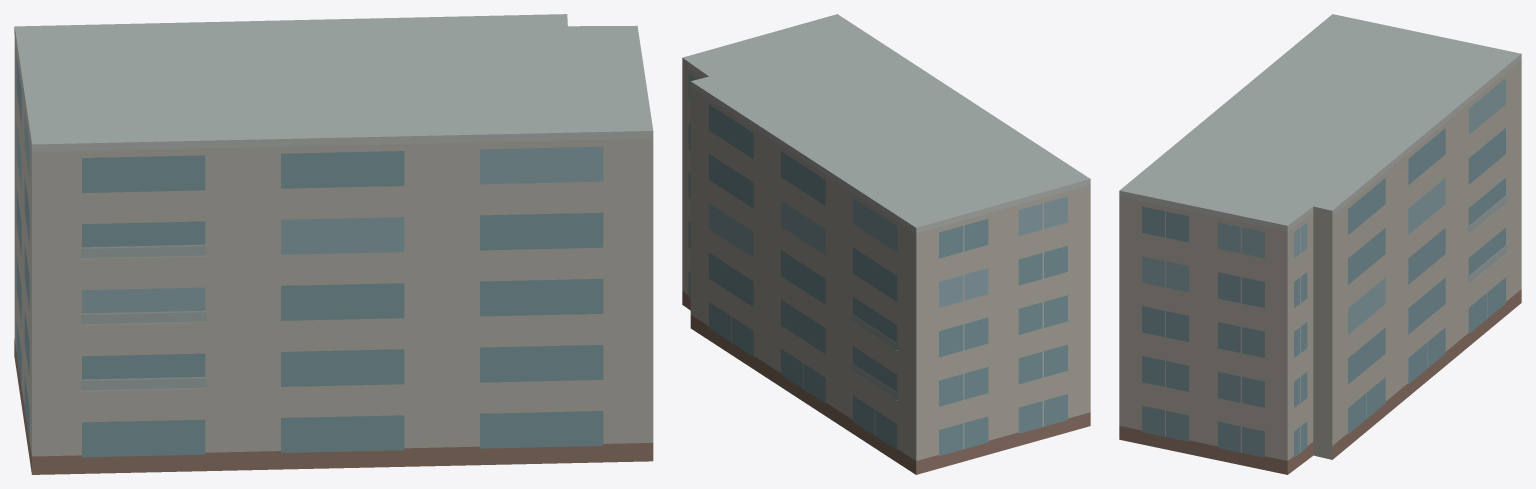
File: survey-upis-32893433.glb
The picture shows the model from 3 angles, left to right: view 1: azimuth 30°, elevation 25°; view 2: azimuth 150°, elevation 25°; view 3: azimuth 270°, elevation 25°; orthographic projection. The views are drawn at different scales.
Visible parts, largest first — view 1: survey-upis-32893433.tmp; view 2: survey-upis-32893433.tmp; view 3: survey-upis-32893433.tmp.
Part boxes in pixels (x1,y1,x2,y2): survey-upis-32893433.tmp: (14, 14, 653, 474); survey-upis-32893433.tmp: (682, 14, 1090, 474); survey-upis-32893433.tmp: (1119, 14, 1521, 474).
Size of the model in its own units: 19.16 by 10.5 by 15.37.
